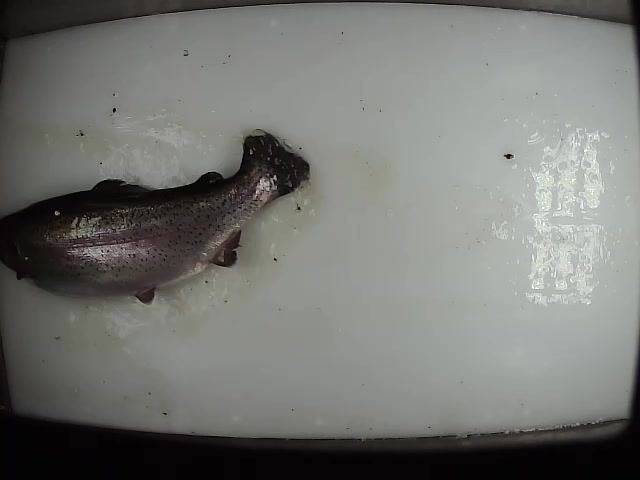fish: (1, 125, 312, 307)
